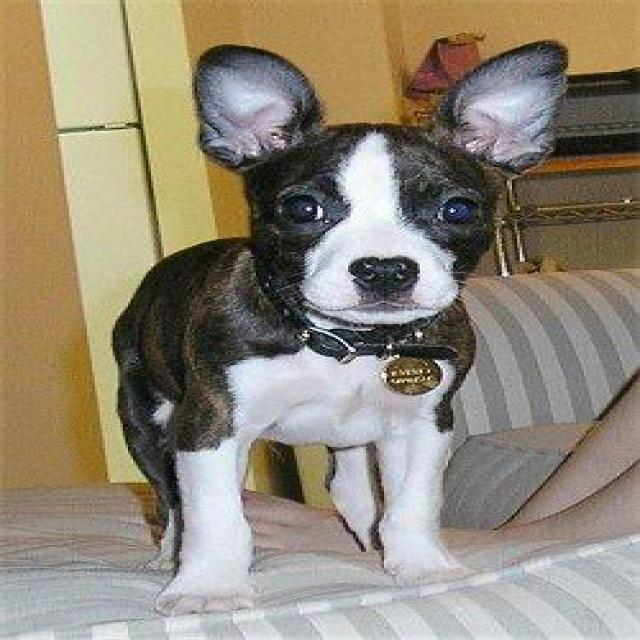toy_terrier: (108, 39, 581, 620)
